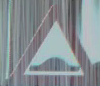Speed Breaker ahead: (5, 4, 92, 79)
